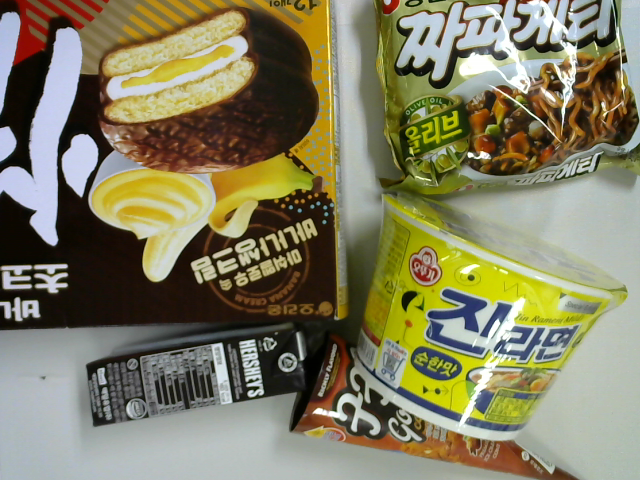Choco_Pie_Banana: (1, 1, 355, 334)
GooGoo_Cone_CVS: (290, 335, 585, 480)
Hush_Choco_Drink: (83, 321, 316, 435)
Jinlamyeon_Mild_Taste_Large_Cup: (353, 186, 630, 443)
Olive_Chapaghetti: (375, 1, 640, 196)
